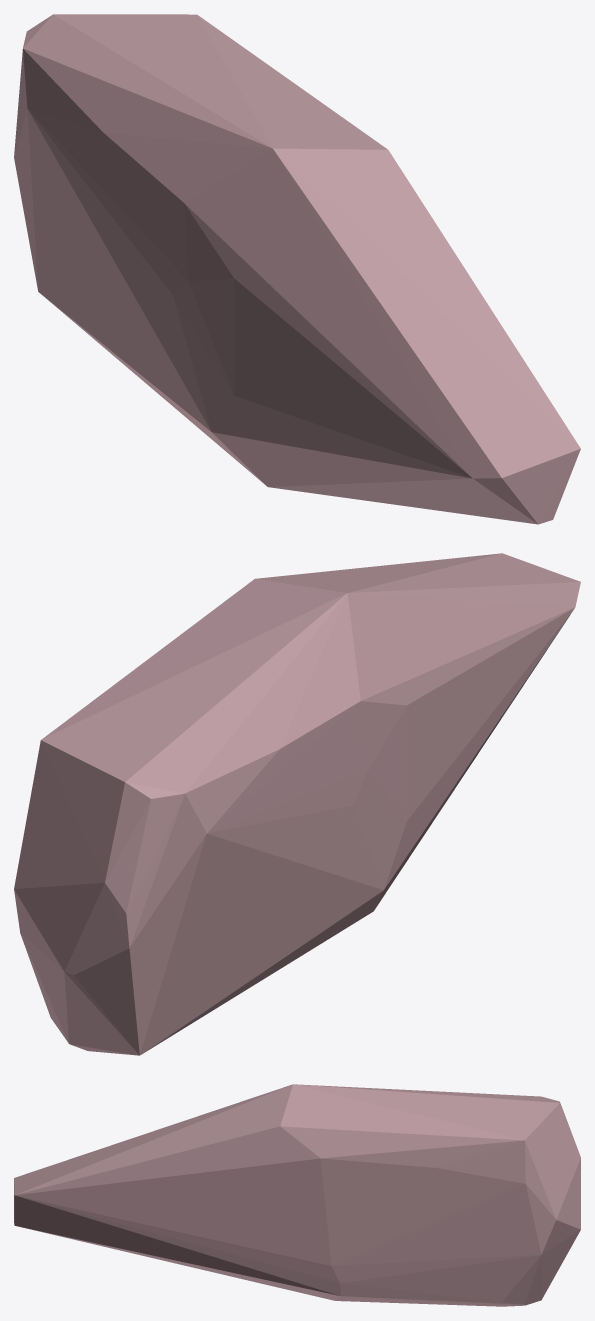
The model's file is food_processed_ketchup_b01.glb.
The picture shows the model from 3 angles, top to bottom: view 1: azimuth 30°, elevation 25°; view 2: azimuth 150°, elevation 25°; view 3: azimuth 270°, elevation 25°; orthographic projection. The views are drawn at different scales.
Parts seen in each view (by area): view 1: geometry_0; view 2: geometry_0; view 3: geometry_0.
Boxes of the visible parts, left/top/right/bottom form: geometry_0: left=14, top=14, right=580, bottom=524; geometry_0: left=14, top=553, right=580, bottom=1055; geometry_0: left=14, top=1084, right=580, bottom=1306.
Size of the model in its own units: 0.1049 by 0.1922 by 0.48.
